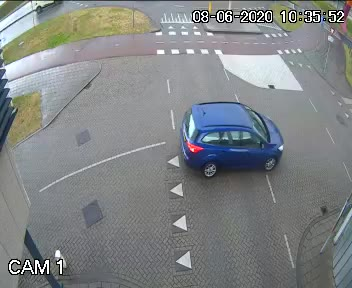car: (176, 98, 291, 178)
